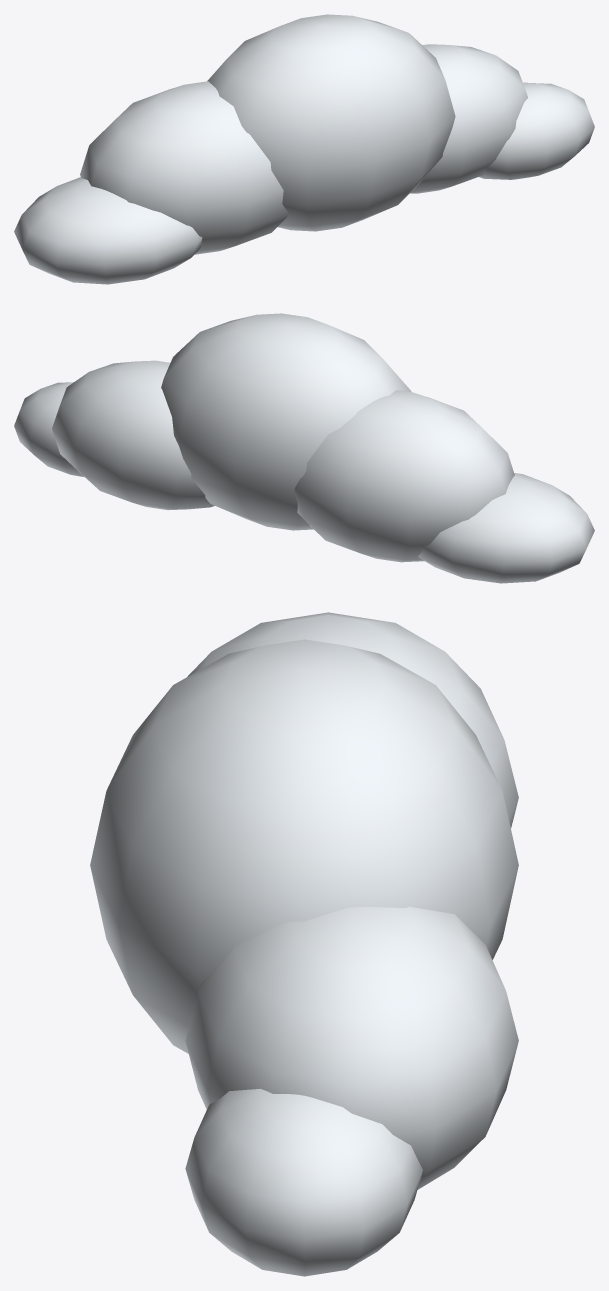
Rendered from CloudBankTall.fbx.
3 views of the same model, one above another, from view 1: azimuth 30°, elevation 25°; view 2: azimuth 150°, elevation 25°; view 3: azimuth 270°, elevation 25° (orthographic). The views are drawn at different scales.
Visible parts, largest first — view 1: CloudBankTall; view 2: CloudBankTall; view 3: CloudBankTall.
Part boxes in pixels (x1,y1,x2,y2): CloudBankTall: (14,14,594,284); CloudBankTall: (14,313,594,583); CloudBankTall: (90,612,518,1276).
Bounding box in the file's own units: 55 × 18 × 18.
1 material, 1 textured.
